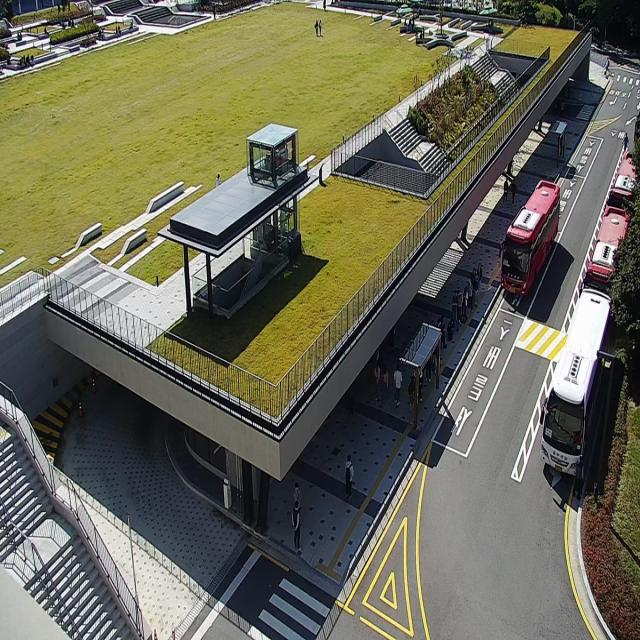queue: (415, 260, 483, 431)
